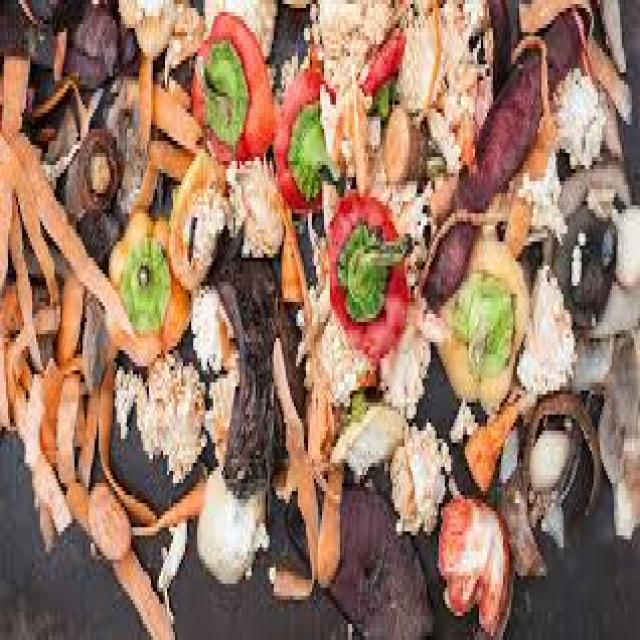food_waste: (27, 65, 601, 448)
